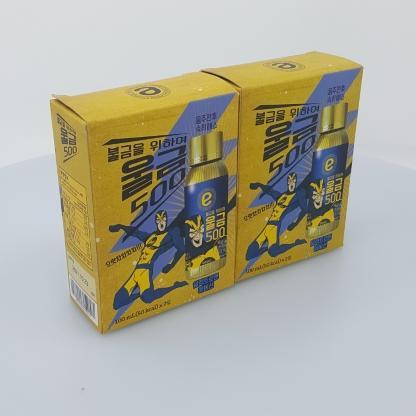----500100ML_2-200ML: (49, 71, 239, 335), (194, 51, 364, 283)
